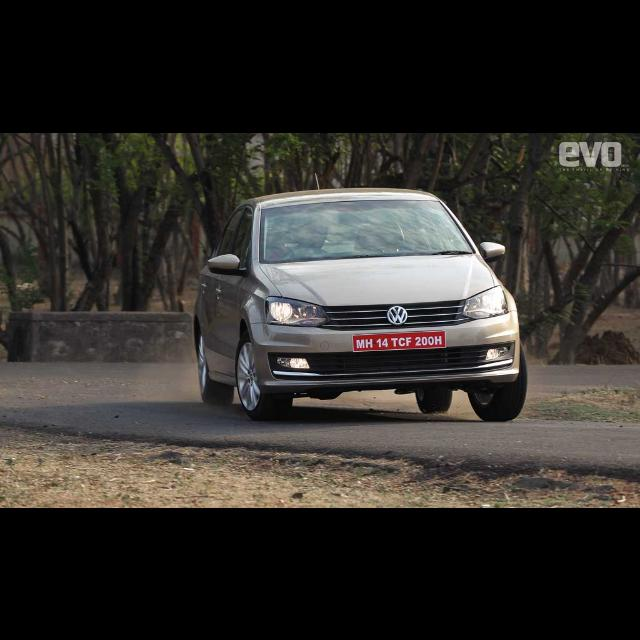number-plate: (353, 330, 444, 350)
vehicles: (180, 176, 526, 427)
